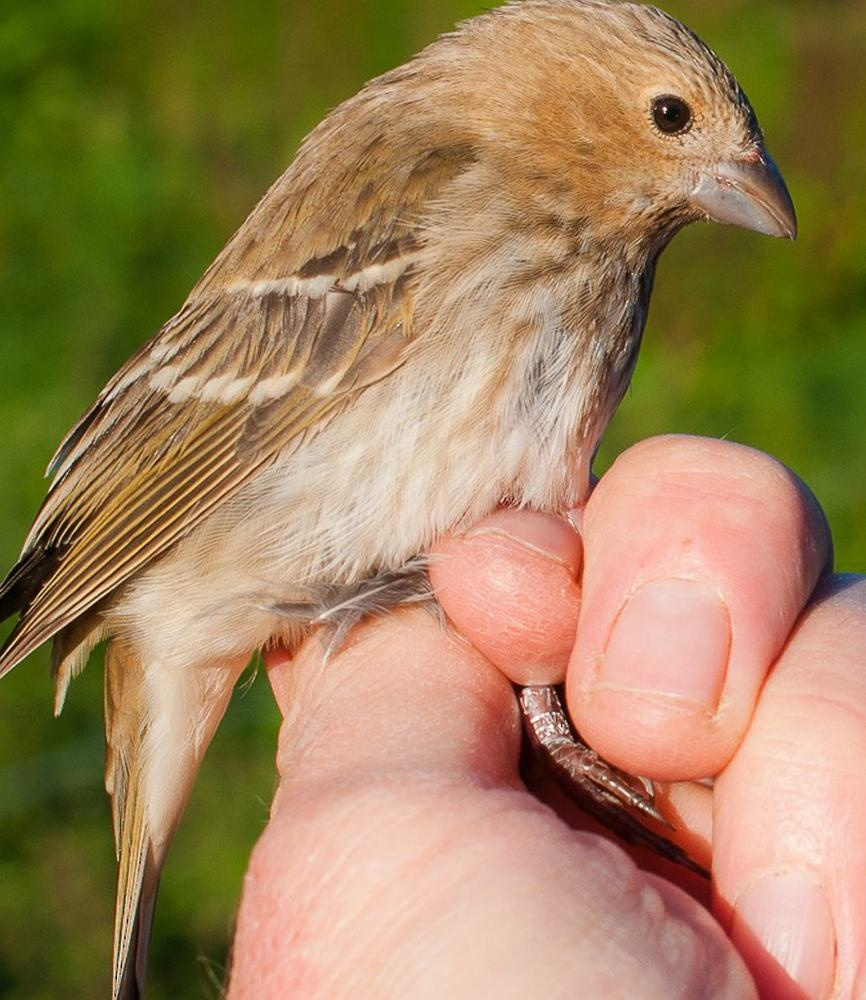rosefinch: (1, 14, 799, 782)
